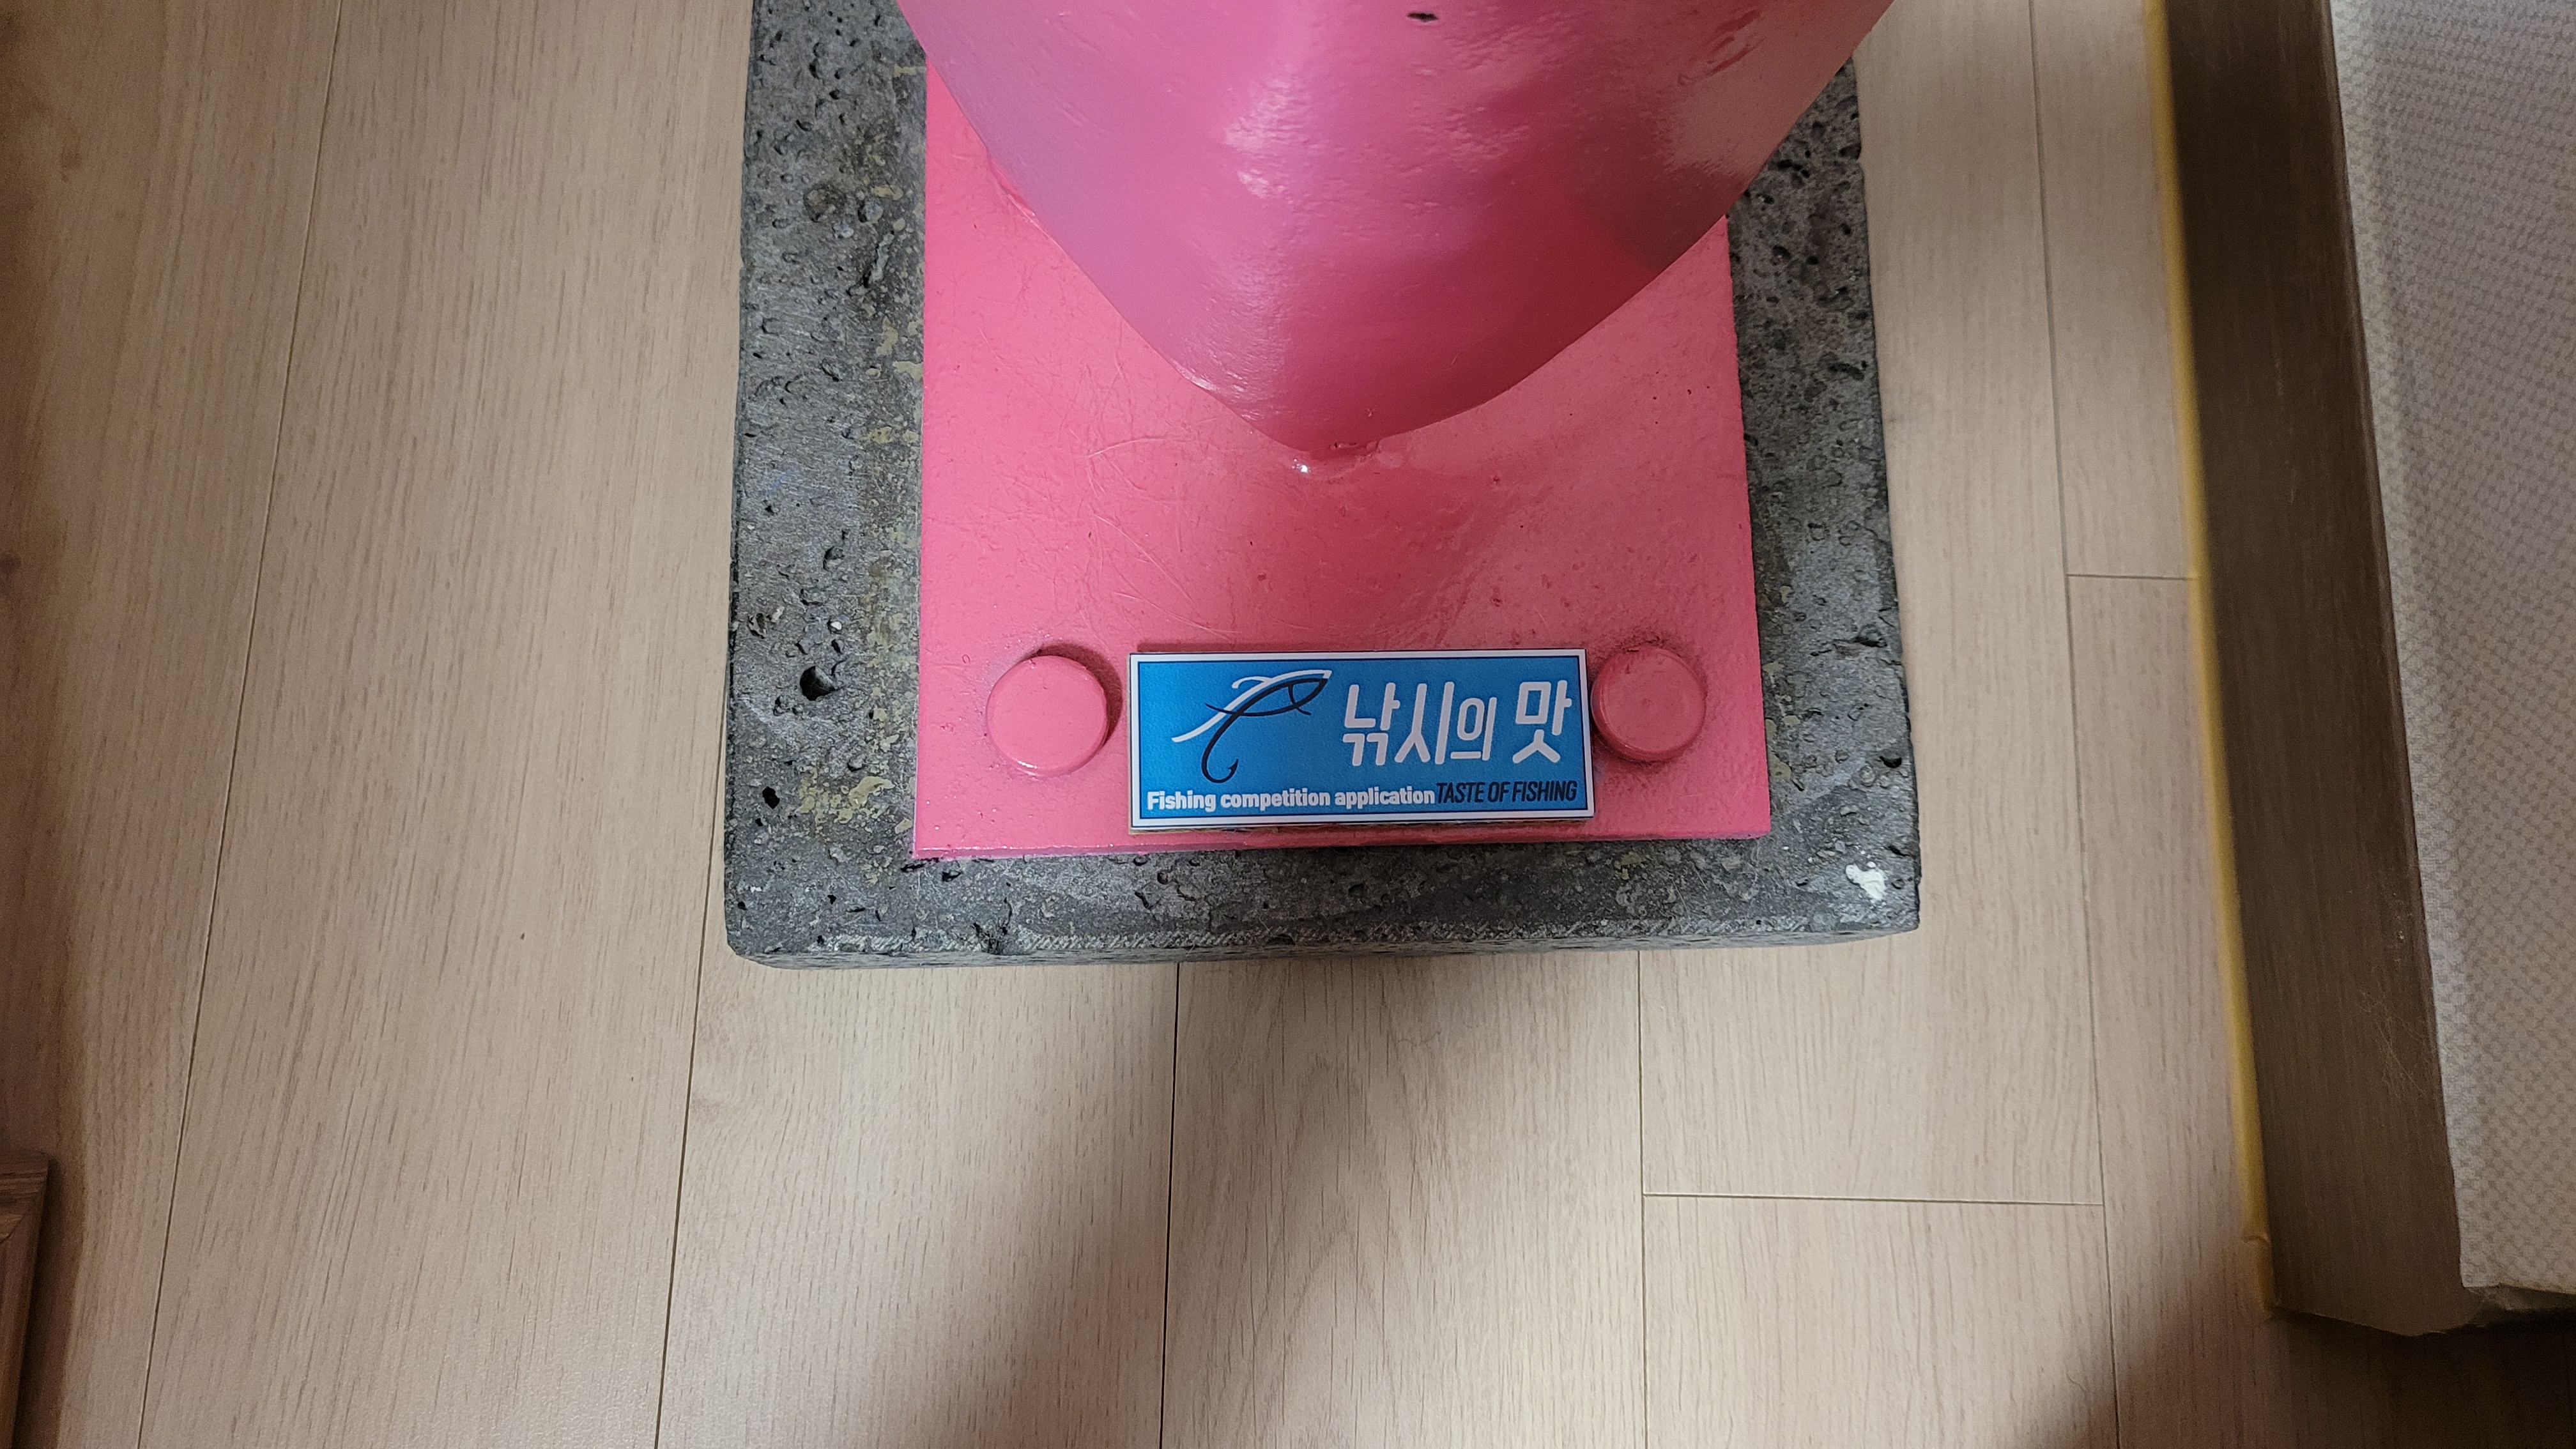tag: (1132, 656, 1599, 826)
